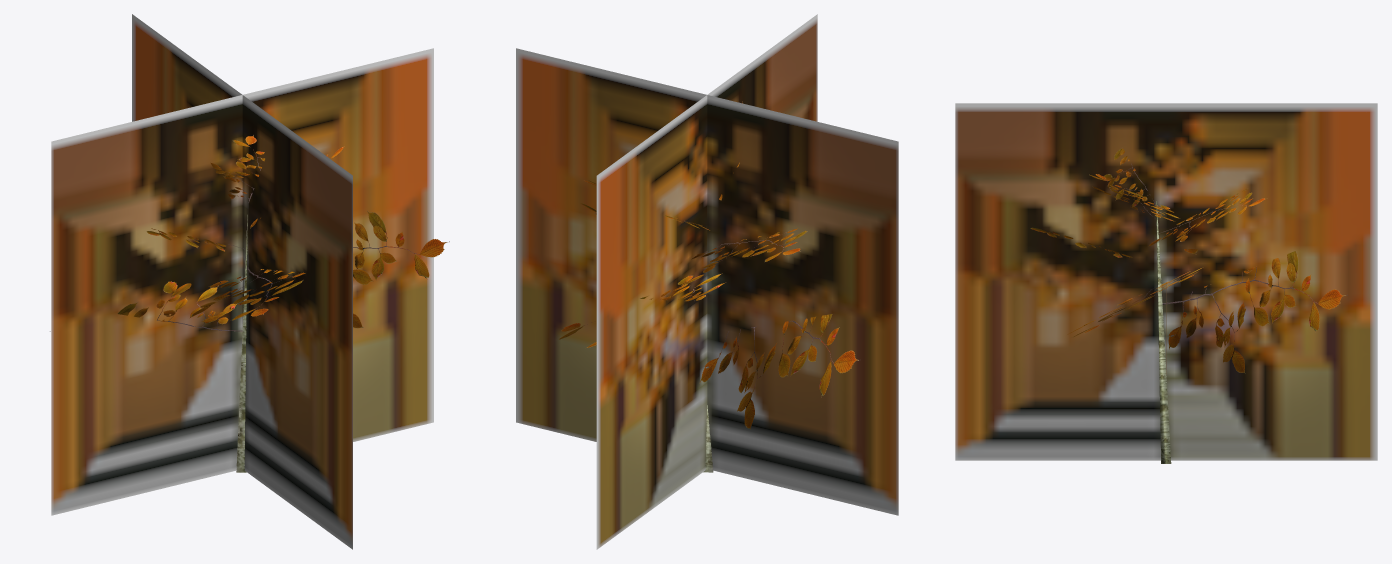
The model's file is Tree-Beech5C-mobile.fbx.
The picture shows the model from 3 angles, left to right: view 1: azimuth 30°, elevation 25°; view 2: azimuth 150°, elevation 25°; view 3: azimuth 270°, elevation 25°; orthographic projection. The views are drawn at different scales.
Visible parts, largest first — view 1: Billboard-BeechC, Tree-Beech5C-mobile_LOD0; view 2: Billboard-BeechC, Tree-Beech5C-mobile_LOD0; view 3: Billboard-BeechC, Tree-Beech5C-mobile_LOD0.
Boxes of the visible parts, left/top/right/bottom form: Billboard-BeechC: left=51, top=14, right=433, bottom=549; Tree-Beech5C-mobile_LOD0: left=50, top=135, right=449, bottom=472; Billboard-BeechC: left=516, top=14, right=898, bottom=549; Tree-Beech5C-mobile_LOD0: left=558, top=101, right=859, bottom=472; Billboard-BeechC: left=955, top=103, right=1377, bottom=460; Tree-Beech5C-mobile_LOD0: left=1030, top=148, right=1347, bottom=463.
Size of what is drawn, in the model's own units: 709 by 666 by 709.
